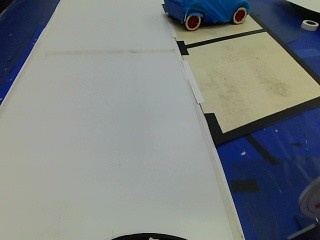car: (157, 0, 254, 31)
